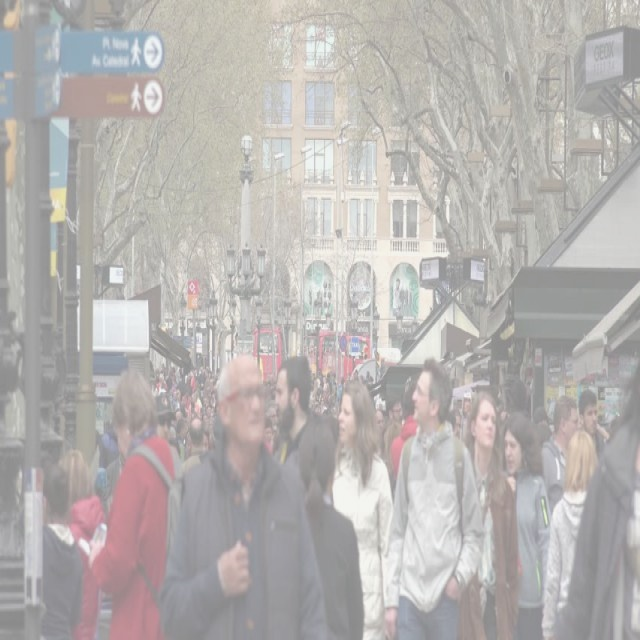pessoa: (154, 344, 336, 639), (383, 356, 485, 639), (88, 369, 182, 639), (563, 361, 640, 639), (330, 376, 396, 639), (296, 416, 366, 639), (460, 391, 518, 638), (541, 428, 602, 639), (500, 409, 553, 639), (59, 448, 110, 639), (42, 461, 84, 639), (172, 332, 220, 467), (540, 393, 580, 520), (491, 372, 553, 436), (274, 354, 310, 462), (388, 376, 418, 483), (306, 342, 348, 414), (372, 394, 402, 489), (90, 430, 122, 514), (578, 388, 608, 463), (261, 370, 279, 446), (154, 391, 178, 442), (146, 354, 172, 396), (448, 399, 471, 437), (349, 366, 374, 390), (391, 277, 403, 316)
